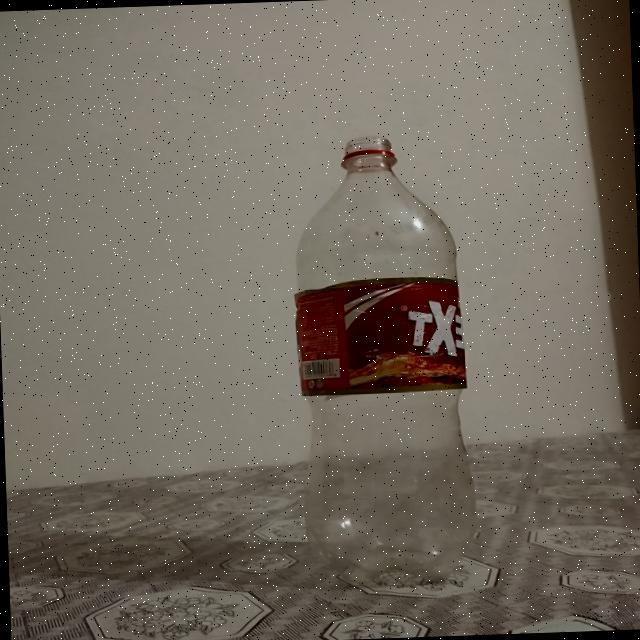bottle: (296, 128, 488, 584)
label: (295, 275, 472, 397)
